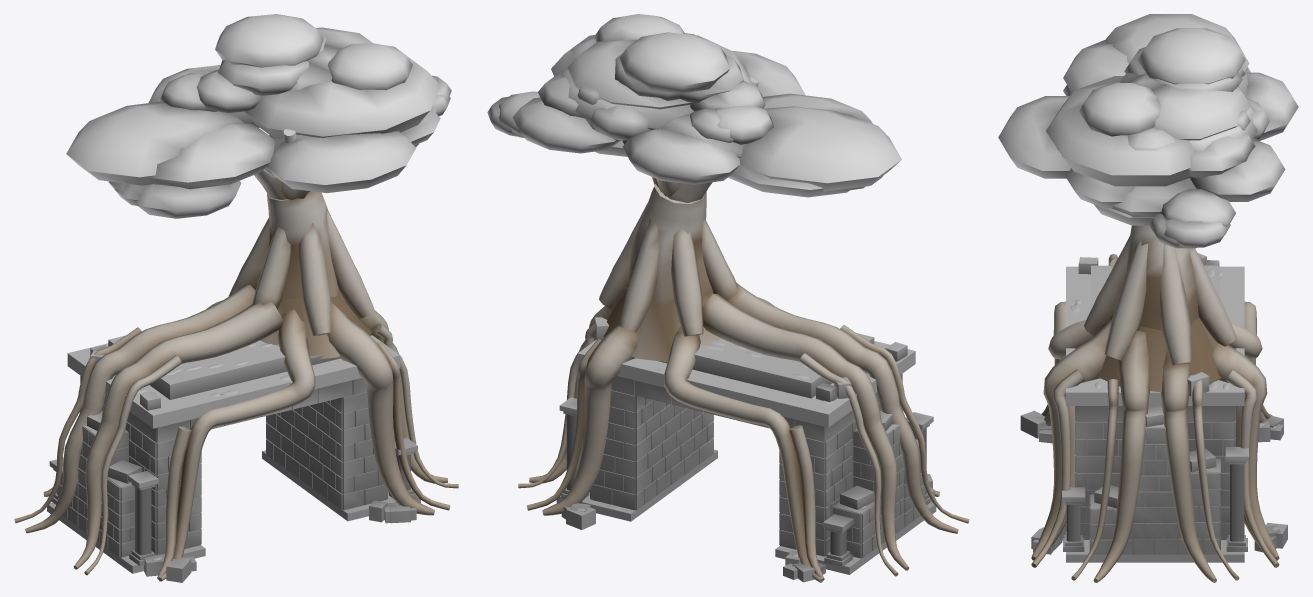
Rendered from ta_prohm_tree_gate.glb.
3 renders of one model, left to right at view 1: azimuth 30°, elevation 25°; view 2: azimuth 150°, elevation 25°; view 3: azimuth 270°, elevation 25°, orthographic. The views are drawn at different scales.
Parts seen in each view (by area): view 1: TreeGate_Canopy, TreeGate_Root, TreeGate_Stone; view 2: TreeGate_Root, TreeGate_Canopy, TreeGate_Stone; view 3: TreeGate_Canopy, TreeGate_Root, TreeGate_Stone.
Boxes of the visible parts, x1,y1,x2,y2 form: TreeGate_Canopy: [66, 14, 451, 218]; TreeGate_Root: [14, 129, 458, 581]; TreeGate_Stone: [47, 335, 420, 582]; TreeGate_Root: [518, 77, 969, 582]; TreeGate_Canopy: [487, 14, 901, 197]; TreeGate_Stone: [556, 317, 936, 582]; TreeGate_Canopy: [998, 14, 1298, 248]; TreeGate_Root: [1031, 225, 1279, 582]; TreeGate_Stone: [1020, 252, 1287, 562].
Bounding box in the file's own units: 20.18 × 21.3 × 12.13.
